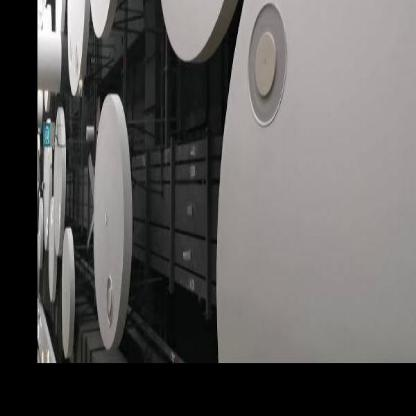light_off: (244, 0, 295, 149)
